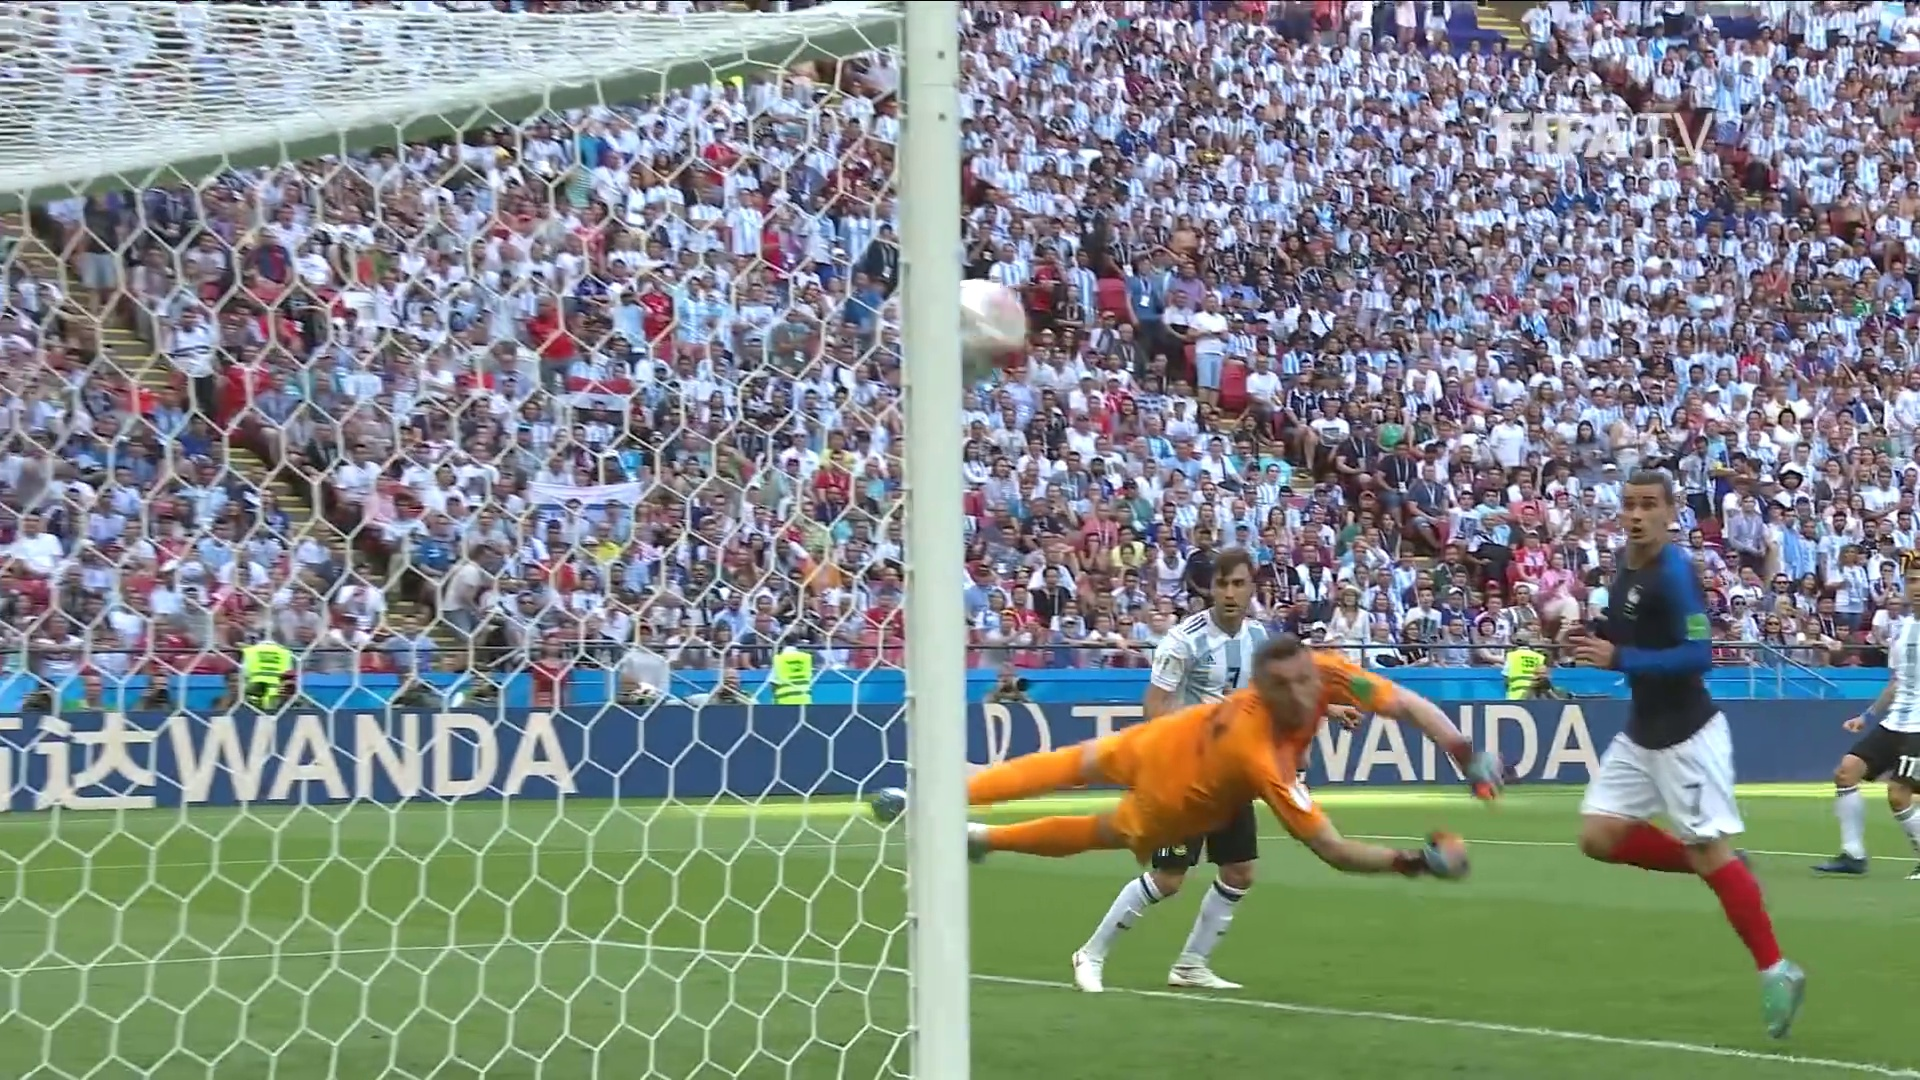ball: (961, 280, 1022, 382)
person: (1571, 461, 1816, 1039), (946, 645, 1487, 878), (1156, 537, 1273, 998)
